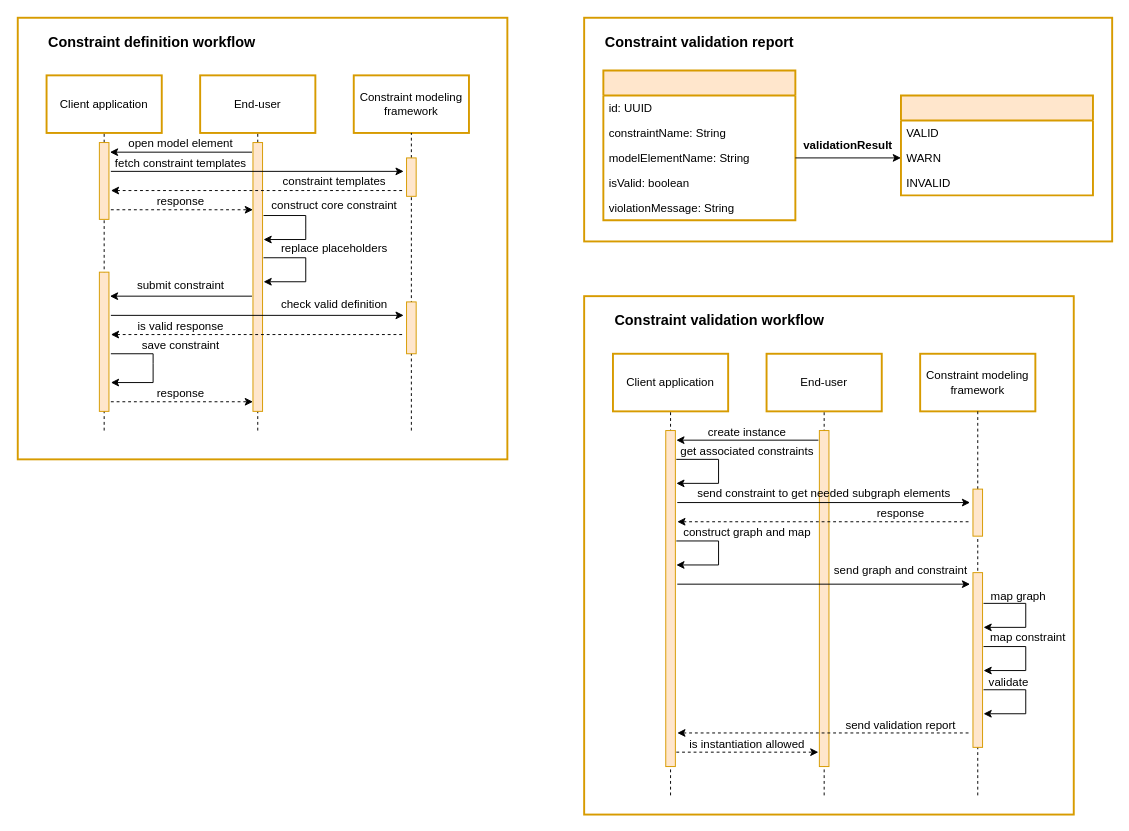
This 1129x831 diagram has some shape labels left out. The shapes that lost their labels are listed below. From the top down, each one's box as (x1, y1, x2, y2) in pixels, then its label:
(602, 69, 796, 221): ConstraintValidationReport
(900, 94, 1093, 196): <<enum>> ValidationResult
